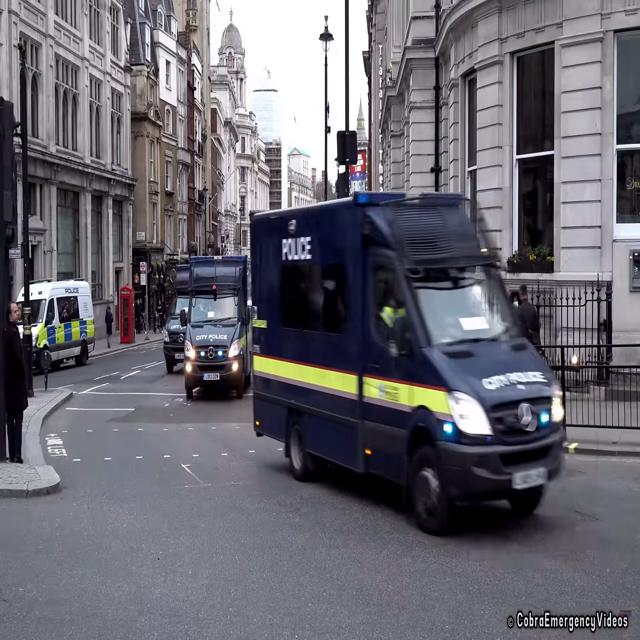emergency-vehicles: (242, 176, 576, 552), (175, 241, 252, 405), (7, 274, 105, 378)
